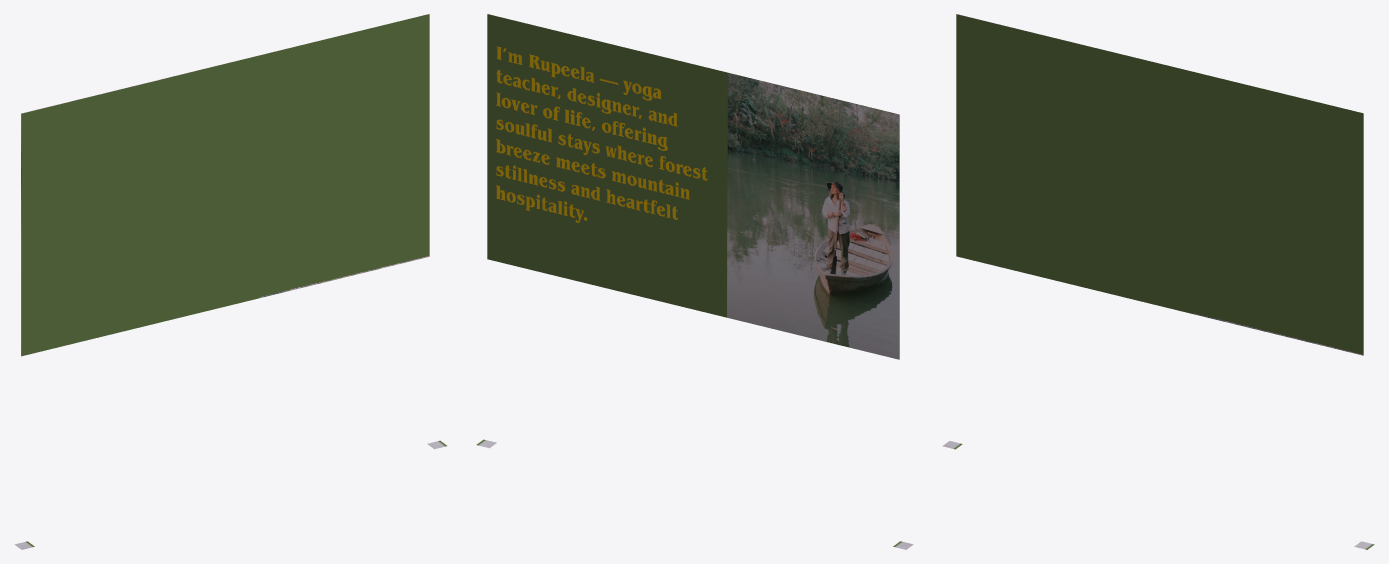
File: slide2.gltf
3 renders of one model, left to right at view 1: azimuth 30°, elevation 25°; view 2: azimuth 150°, elevation 25°; view 3: azimuth 330°, elevation 25°, orthographic.
Parts seen in each view (by area): view 1: slide2; view 2: slide2; view 3: slide2.
Boxes of the visible parts, x1,y1,x2,y2 form: slide2: [14, 14, 446, 549]; slide2: [476, 14, 913, 549]; slide2: [942, 14, 1374, 549].
Bounding box in the file's own units: 2.4 × 2.31 × 0.0731.
Materials: 1 (1 with a texture image).
